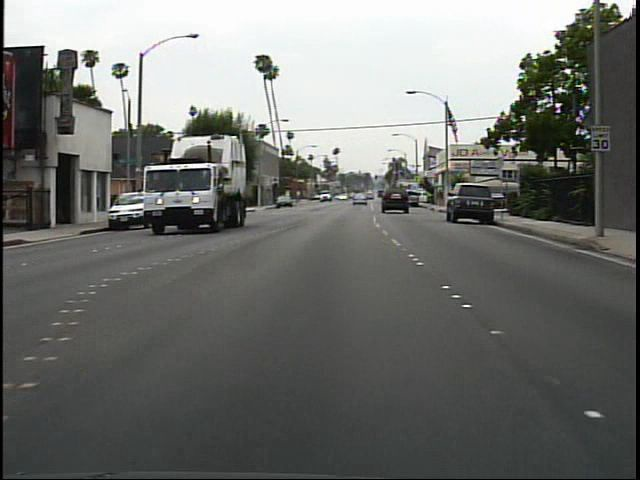person: (431, 183, 449, 212)
